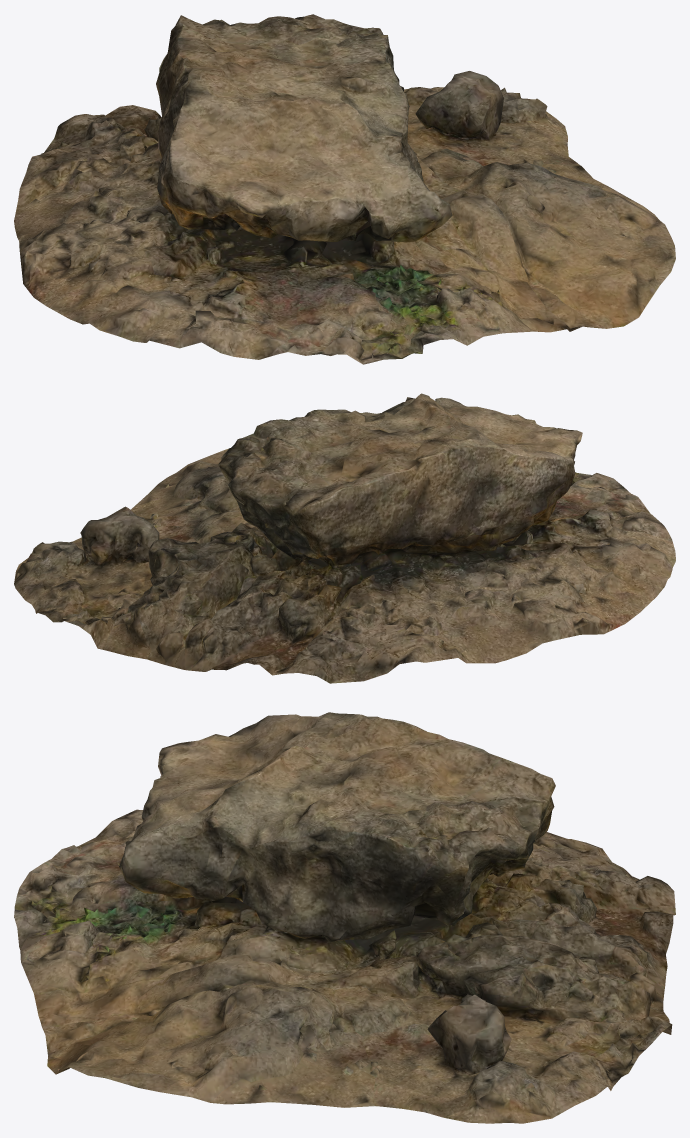
File: coast-scan.glb
The picture shows the model from 3 angles, top to bottom: view 1: azimuth 30°, elevation 25°; view 2: azimuth 150°, elevation 25°; view 3: azimuth 270°, elevation 25°; orthographic projection. The views are drawn at different scales.
Parts seen in each view (by area): view 1: coast_rocks_05; view 2: coast_rocks_05; view 3: coast_rocks_05.
Part boxes in pixels (left/top/right/bottom): coast_rocks_05: left=14, top=14, right=675, bottom=364; coast_rocks_05: left=14, top=393, right=675, bottom=683; coast_rocks_05: left=14, top=712, right=675, bottom=1123.
Size of the model in its own units: 4.04 by 1.33 by 3.75.
Materials: 1 (1 with a texture image).
